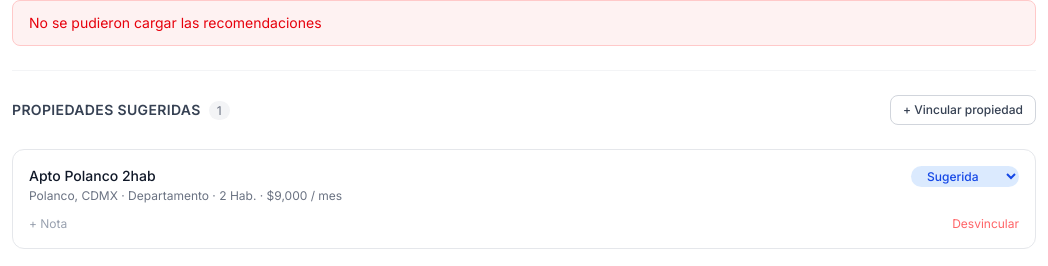
Test case: PropertiesTab unlink › shows removeError and keeps card when unlink API fails
Expected: the link "Apto Polanco 2hab" is shown, [29,167,156,184]
Click the button "Desvincular": point(986, 224) [952,216,1019,232]
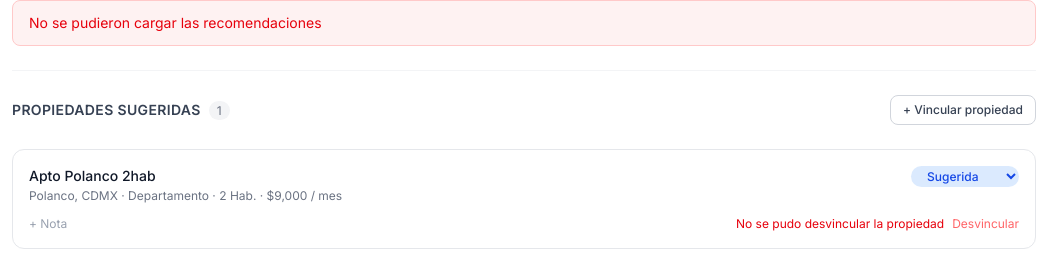
Expected: the link "Apto Polanco 2hab" is shown, [29,167,156,184]
Result: the text "No se pudo desvincular la propiedad" is shown at [736,216,944,232]
